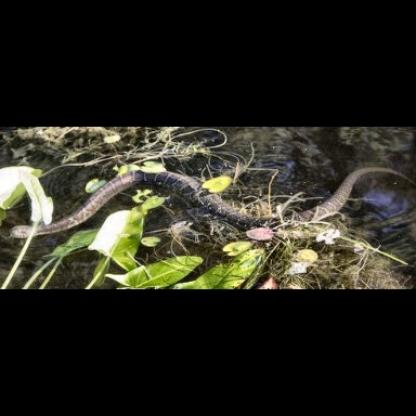Snake: (6, 158, 414, 245)
